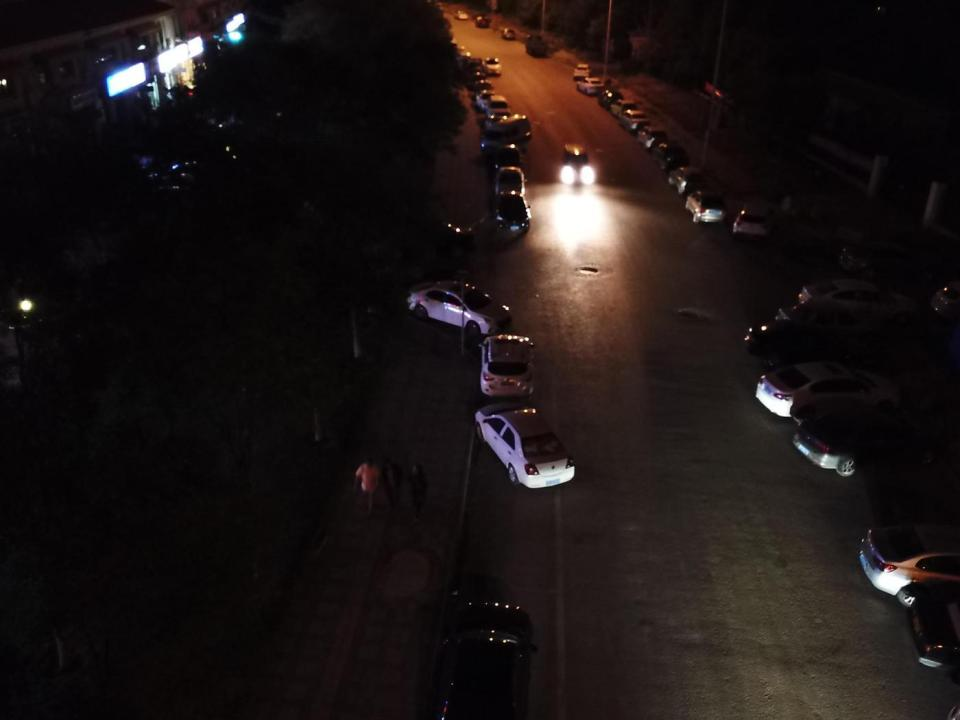car: (439, 594, 537, 720), (793, 406, 953, 477), (755, 357, 908, 421), (472, 398, 576, 489), (857, 522, 960, 609), (744, 316, 888, 372), (402, 278, 512, 339), (796, 274, 920, 327), (834, 235, 939, 284), (772, 301, 878, 347), (479, 329, 537, 402), (384, 214, 479, 257), (679, 188, 738, 228), (732, 195, 780, 241), (146, 161, 214, 193), (490, 189, 533, 235), (559, 140, 595, 187), (665, 163, 709, 194), (492, 165, 528, 202), (653, 139, 690, 174), (492, 143, 528, 171), (636, 125, 670, 151), (618, 109, 650, 134), (575, 73, 606, 94), (598, 85, 625, 109), (609, 96, 637, 116), (484, 112, 510, 132), (475, 88, 497, 110), (571, 61, 594, 80), (482, 55, 503, 75), (470, 70, 490, 85), (475, 78, 494, 93), (500, 26, 518, 40), (452, 7, 468, 22), (474, 15, 491, 29)
truck: (523, 32, 550, 56)
van: (476, 115, 535, 149), (487, 94, 512, 120)
